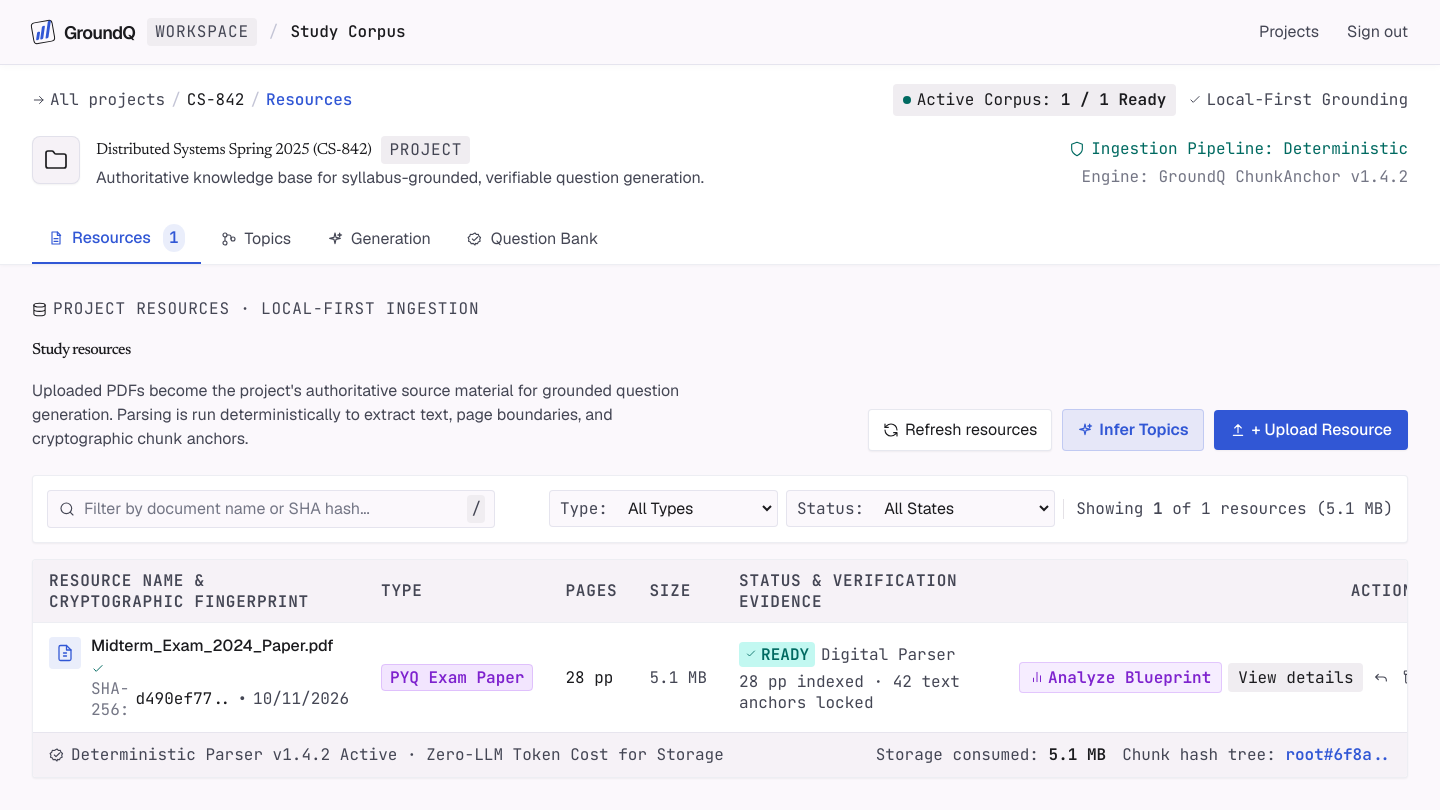
Test: ProjectResourcesPage › renders PYQ Exam Paper badge and allows analyzing exam blueprint
This screenshot has width=1440, height=810.
Expected: the text "PYQ Exam Paper" is shown, [381,664,533,691]
Click the button "Analyze Blueprint".
click(1121, 677)  # box [1019,662,1222,693]
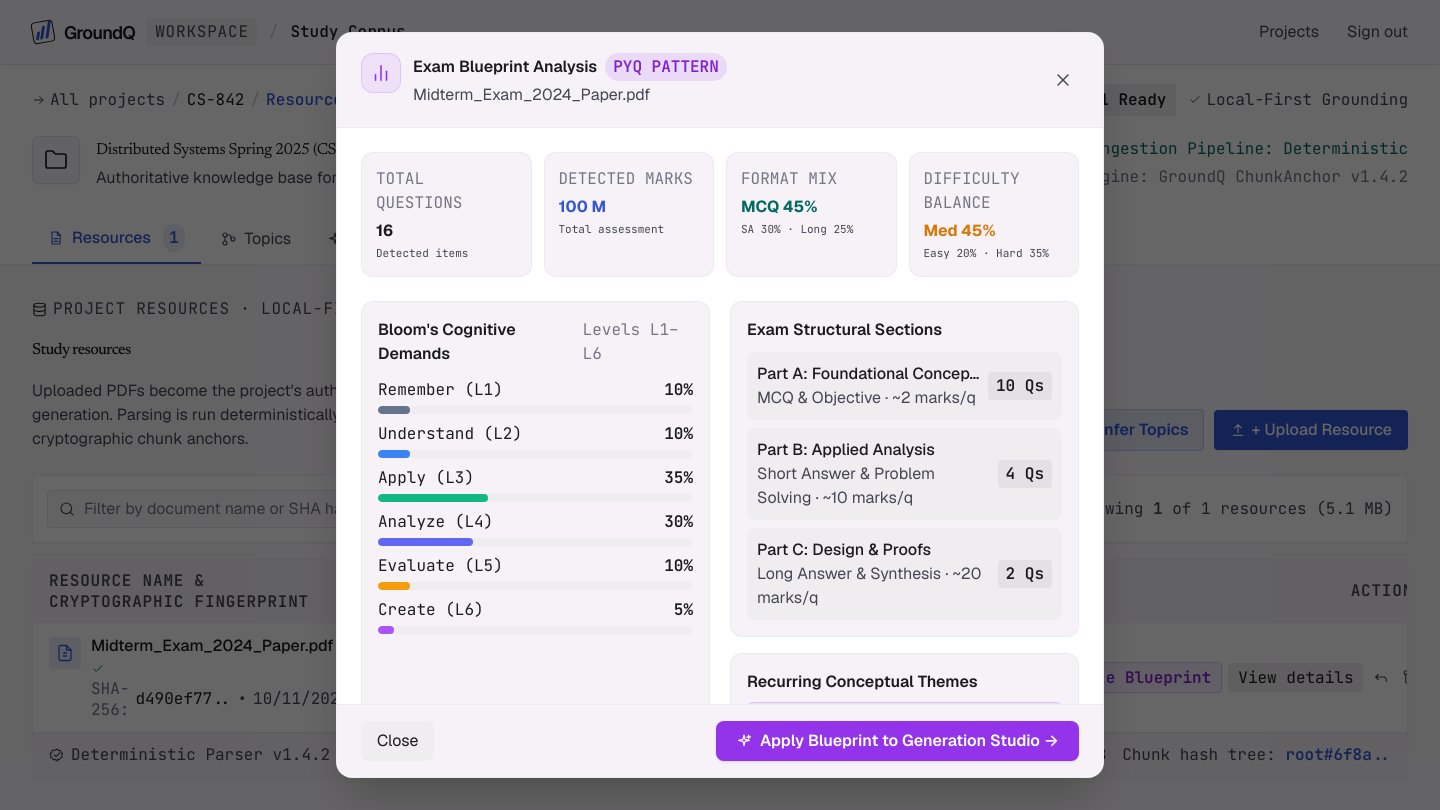
Now the heading "Exam Blueprint Analysis" is shown, box [413,55,597,79]
Now the text "PYQ PATTERN" is shown, box [605,53,727,81]
Now the text "Total Questions" is shown, box [376,168,462,213]
Click the button named "Close blueprint modal".
click(1063, 80)  # box [1047,64,1079,96]
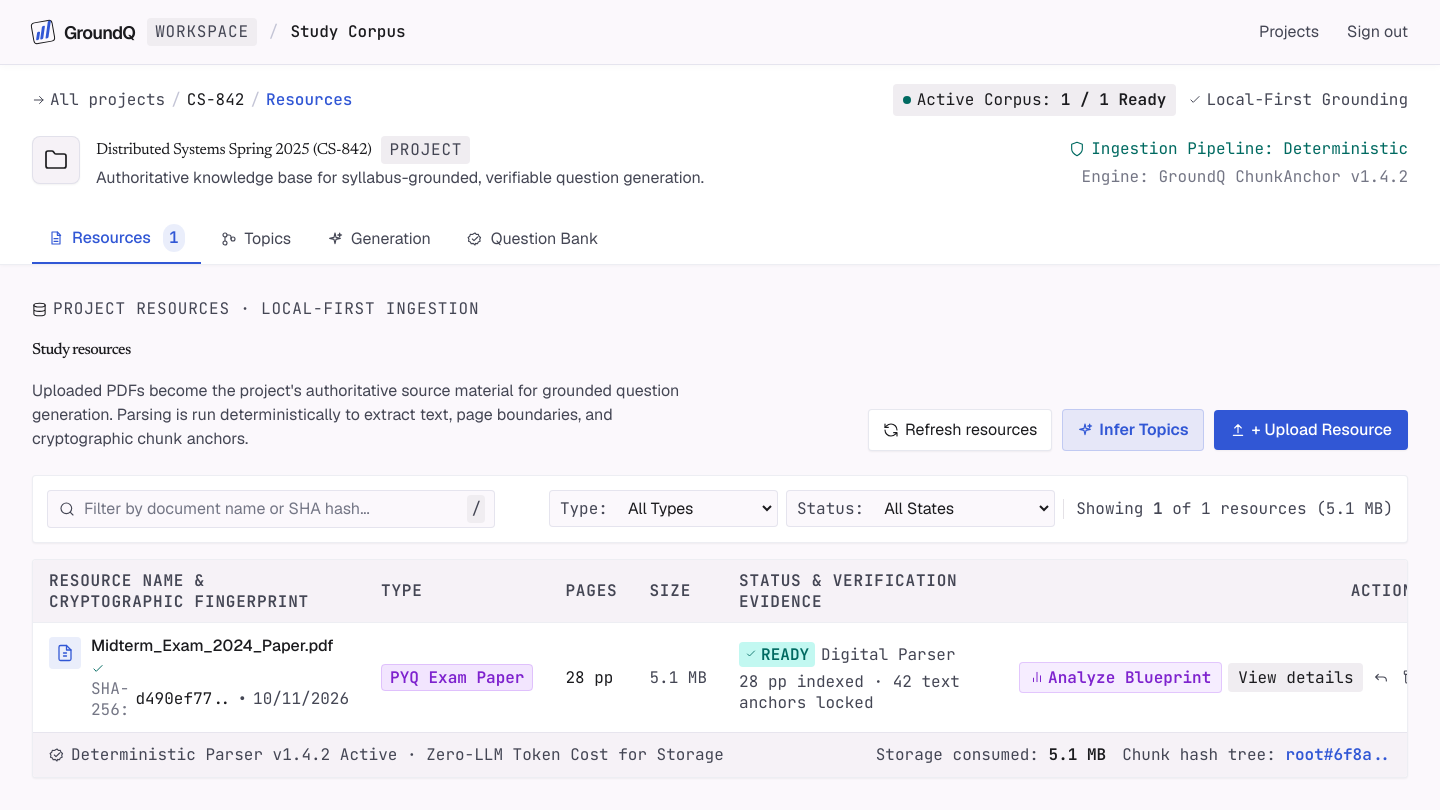
Now the heading "Exam Blueprint Analysis" is gone
